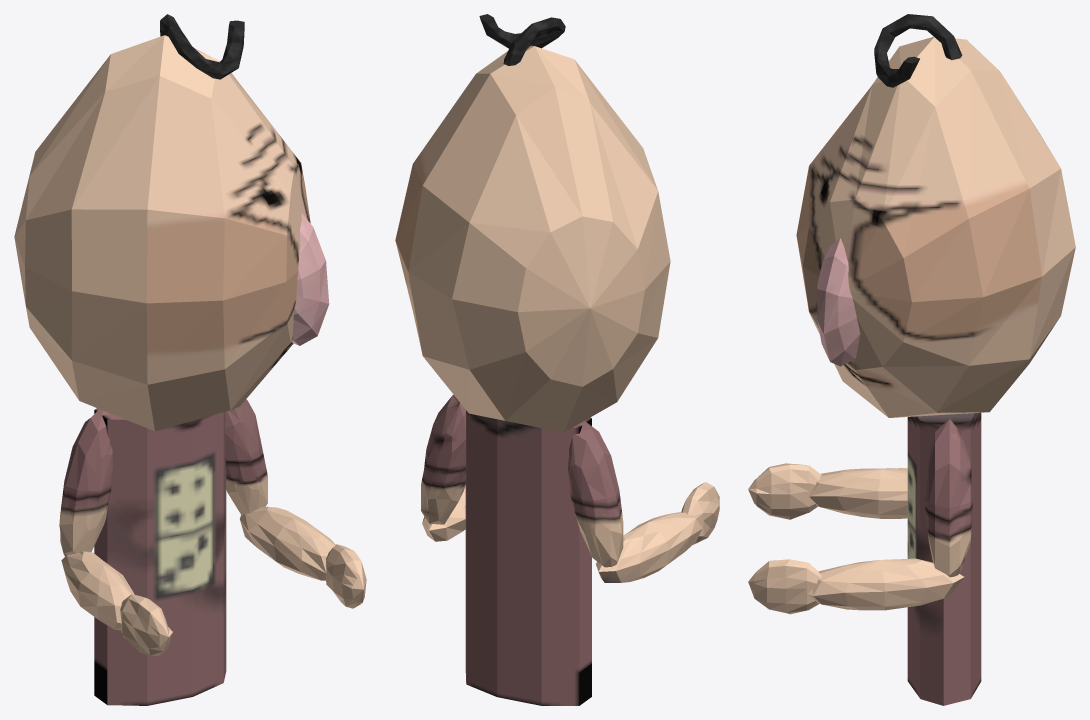
File: Domino.glb
3 views of the same model, side by side, from view 1: azimuth 30°, elevation 25°; view 2: azimuth 150°, elevation 25°; view 3: azimuth 270°, elevation 25° (orthographic). The views are drawn at different scales.
Visible parts, largest first — view 1: Domino; view 2: Domino; view 3: Domino.
Part boxes in pixels (box(x1,y1,x2,y2)): Domino: box(14, 14, 366, 705); Domino: box(395, 14, 719, 705); Domino: box(748, 14, 1075, 705).
Size of the model in its own units: 272 by 690 by 311.
1 material, 1 textured.
